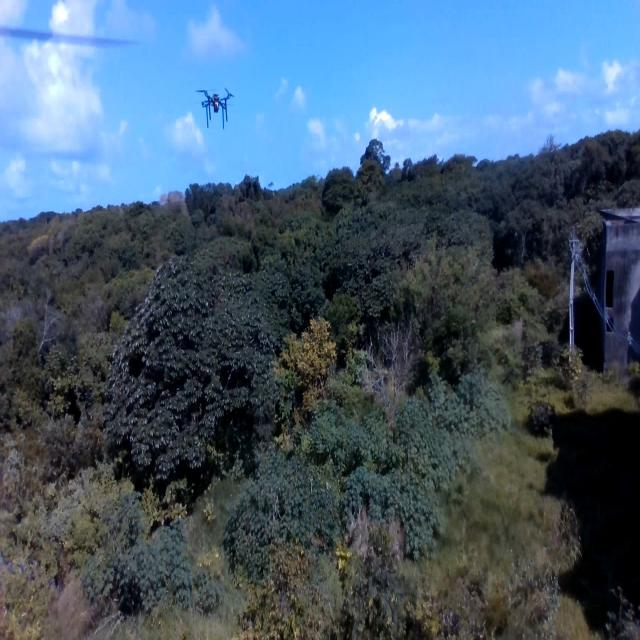-uav-: (188, 77, 240, 135)
